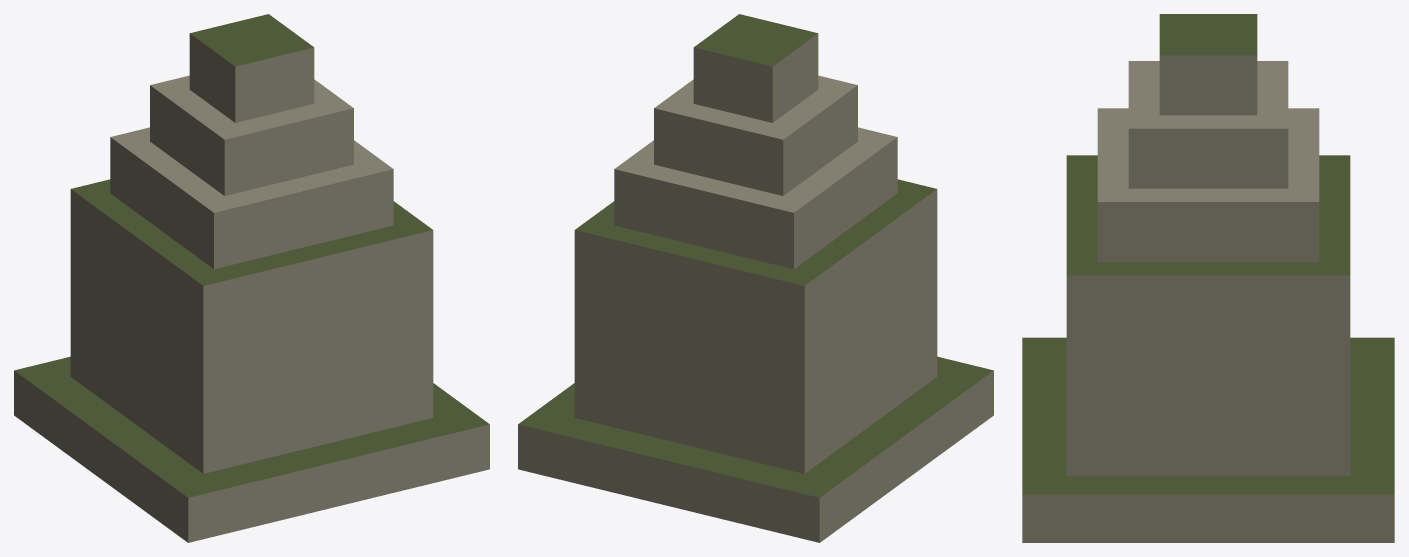
File: ruin-shrine.tone-v1.lod2.glb
The picture shows the model from 3 angles, left to right: view 1: azimuth 30°, elevation 25°; view 2: azimuth 150°, elevation 25°; view 3: azimuth 270°, elevation 25°; orthographic projection. The views are drawn at different scales.
Visible parts, largest first — view 1: ruin-shrine; view 2: ruin-shrine; view 3: ruin-shrine.
Boxes of the visible parts, <box> form: ruin-shrine: <box>14,14,489,542</box>; ruin-shrine: <box>518,14,993,542</box>; ruin-shrine: <box>1022,14,1394,542</box>.
Size of the model in its own units: 8.4 by 10.7 by 8.4.
